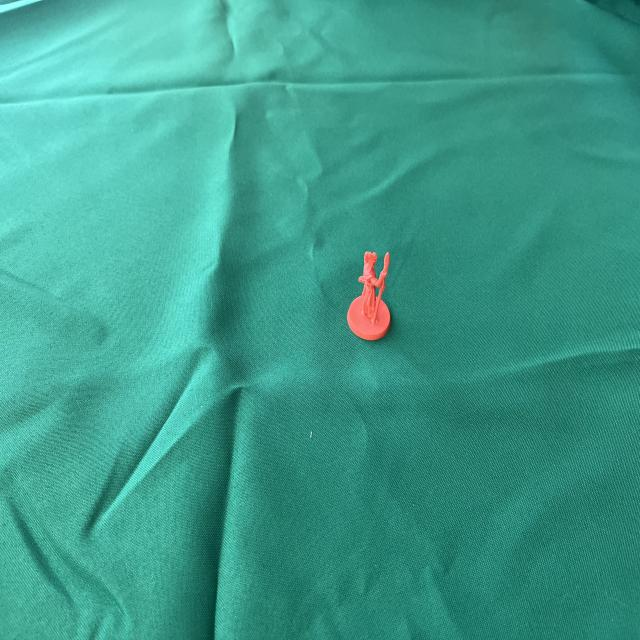amon_follower: (348, 252, 390, 340)
